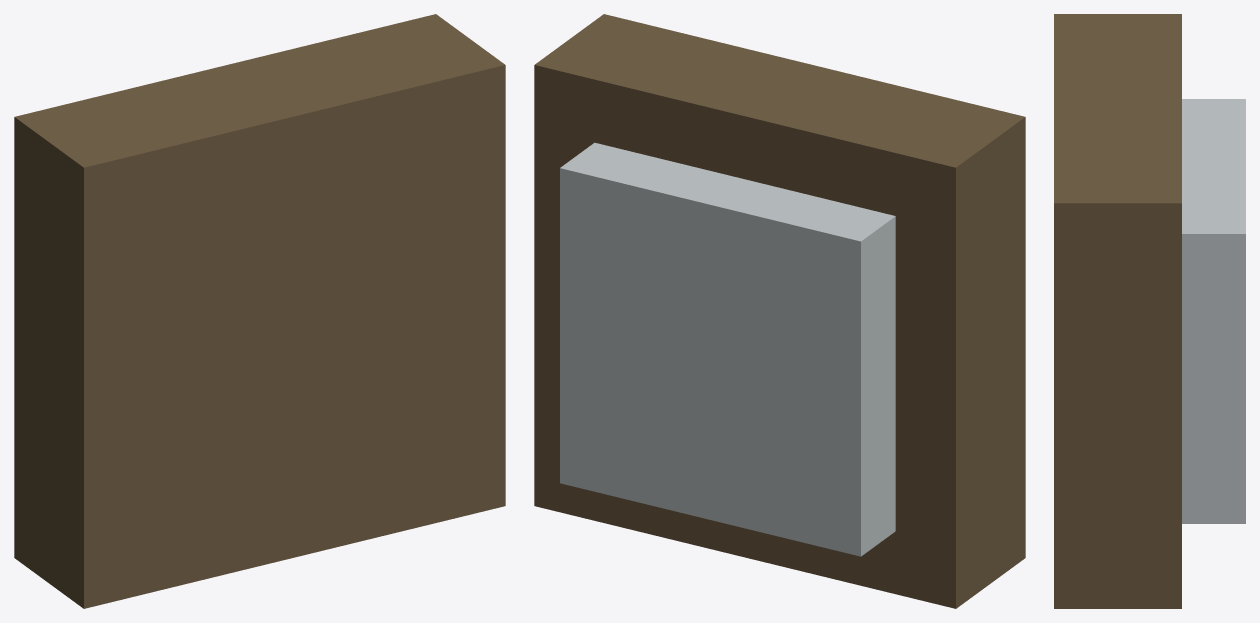
File: espejo_marco_roble_01.glb
The picture shows the model from 3 angles, left to right: view 1: azimuth 30°, elevation 25°; view 2: azimuth 150°, elevation 25°; view 3: azimuth 270°, elevation 25°; orthographic projection. The views are drawn at different scales.
Visible parts, largest first — view 1: espejo_marco_roble; view 2: espejo_marco_roble; view 3: espejo_marco_roble.
Part boxes in pixels (left/top/right/bottom): espejo_marco_roble: left=14, top=14, right=505, bottom=608; espejo_marco_roble: left=534, top=14, right=1025, bottom=608; espejo_marco_roble: left=1054, top=14, right=1245, bottom=608.
Bounding box in the file's own units: 0.7 × 0.7 × 0.3.
